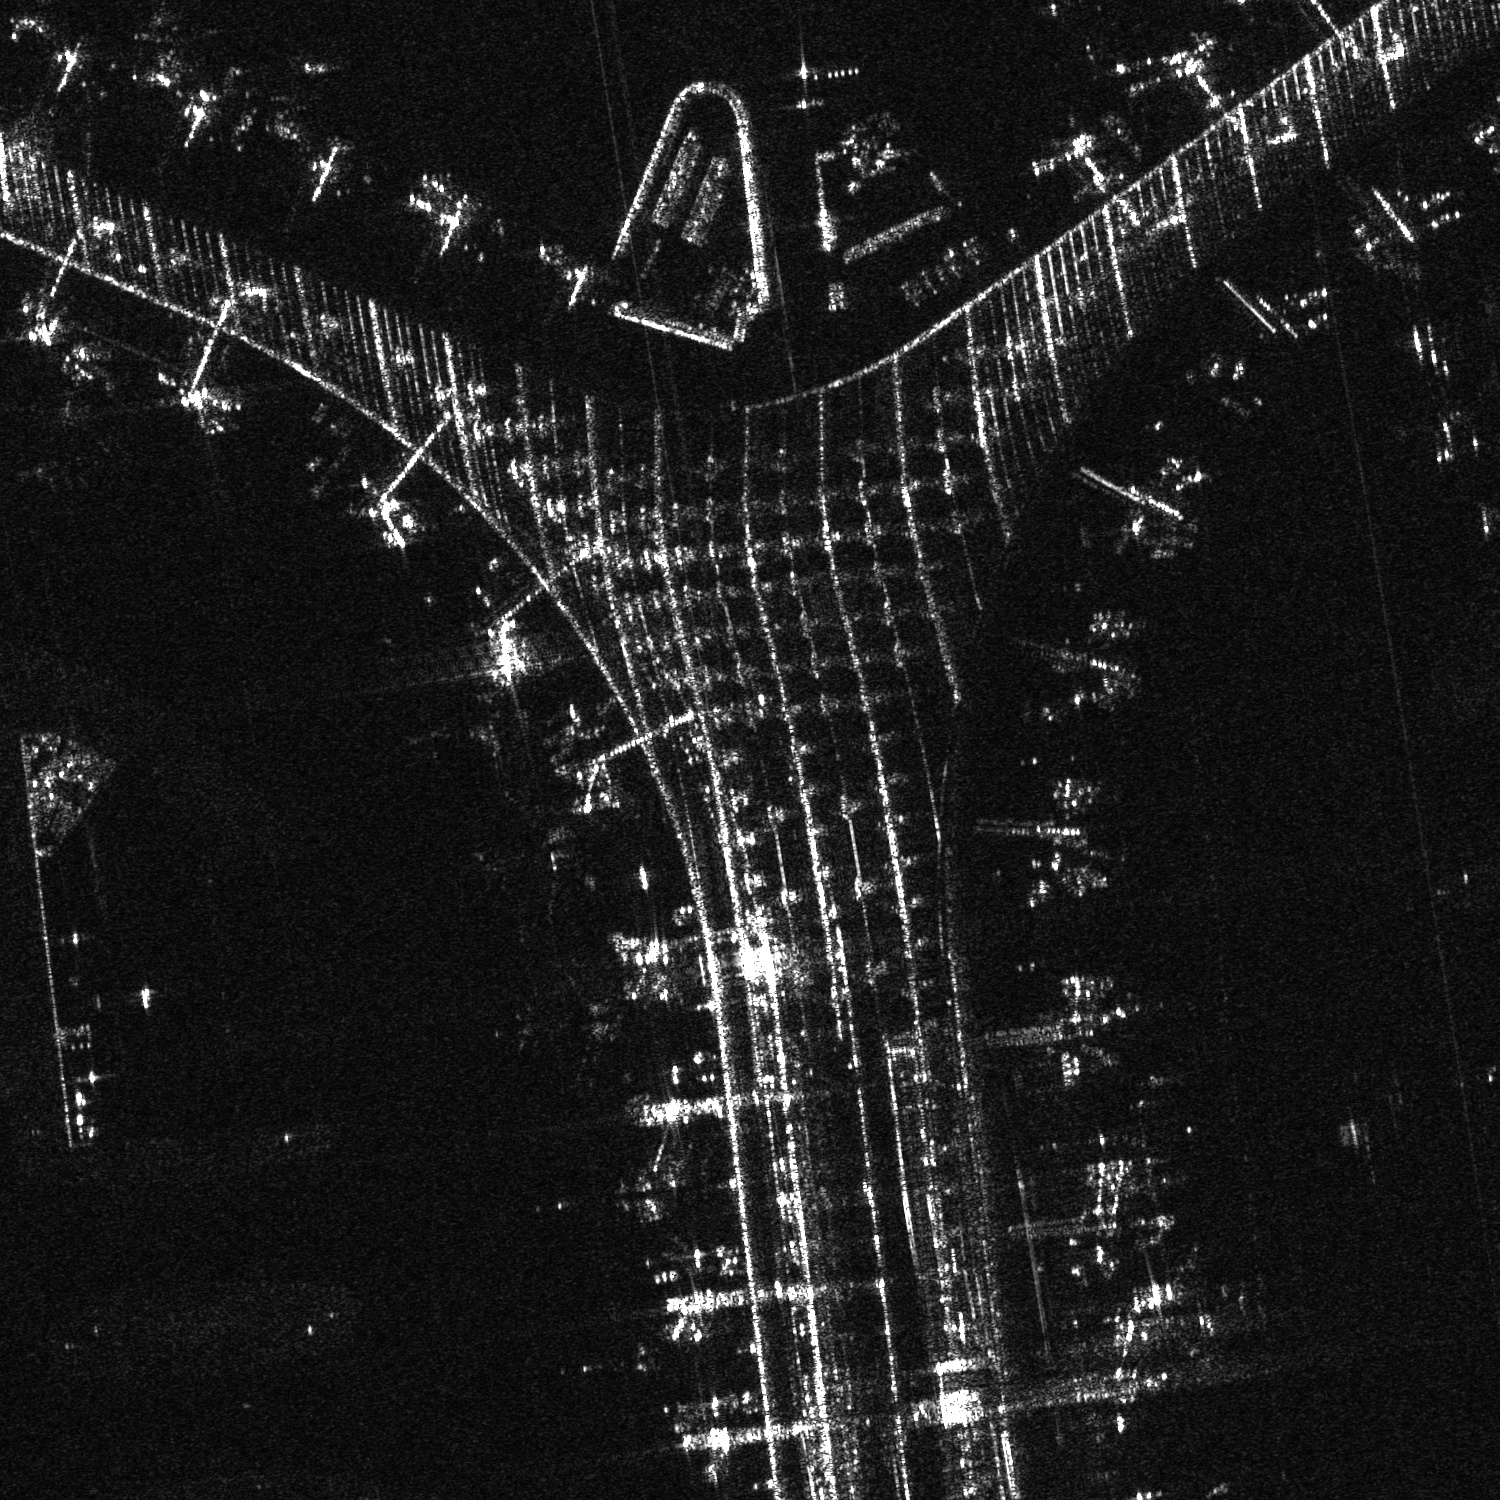Boeing787: (474, 786, 580, 902)
other: (508, 959, 630, 1076), (4, 382, 117, 484)
